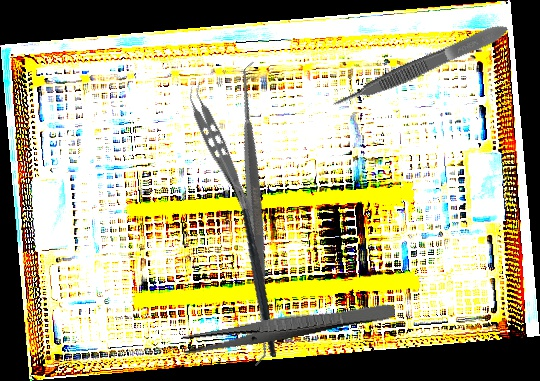Chopper: (203, 179, 303, 358)
Dressing Forceps: (180, 297, 397, 357)
Spatula Surgical: (101, 60, 408, 368)
Tissue Forceps: (327, 20, 512, 113), (179, 81, 266, 221)
